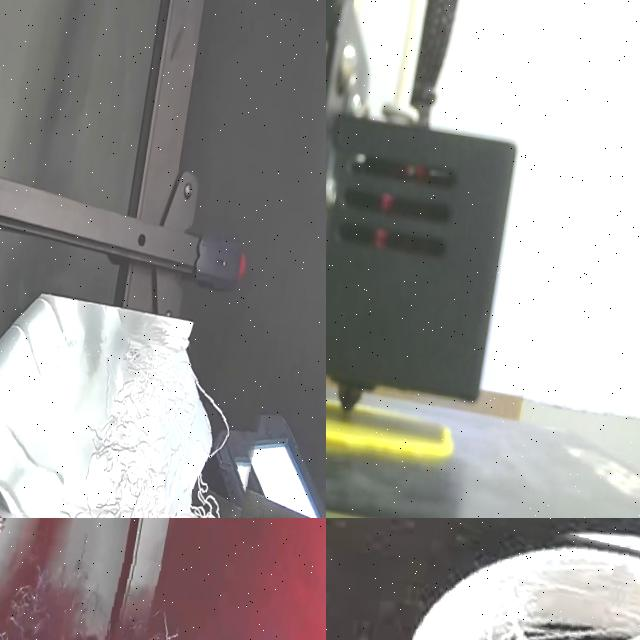spaghetti: (52, 317, 275, 518), (0, 518, 278, 640), (385, 518, 640, 640)
